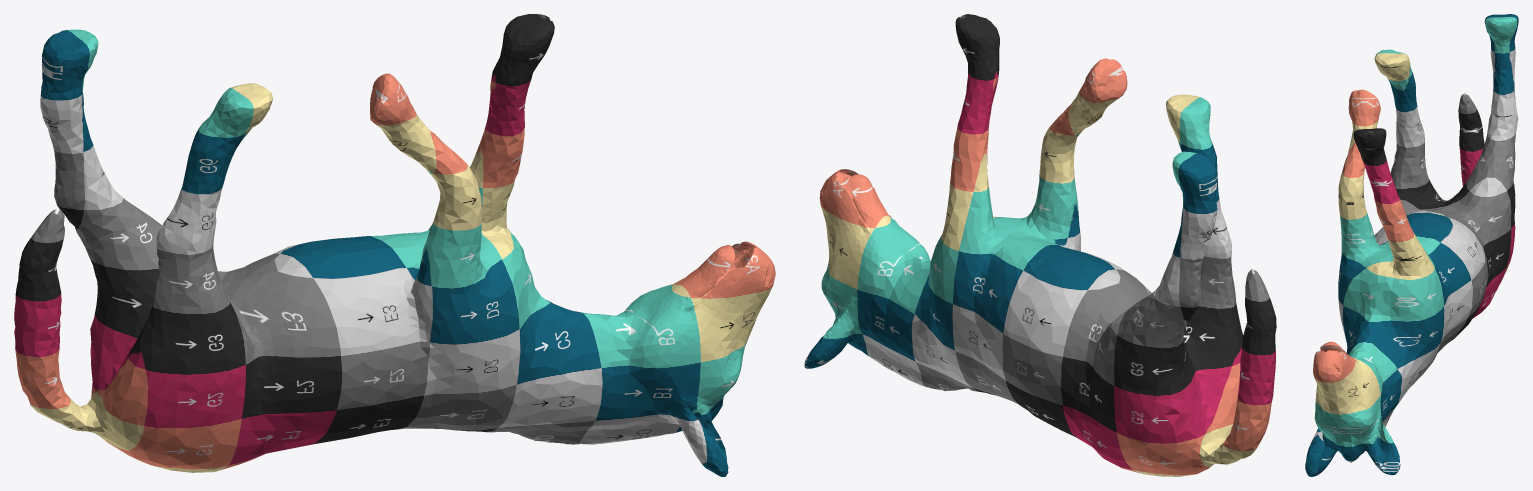
The model's file is horse_03.obj.
3 views of the same model, side by side, from view 1: azimuth 30°, elevation 25°; view 2: azimuth 150°, elevation 25°; view 3: azimuth 270°, elevation 25° (orthographic). The views are drawn at different scales.
Visible parts, largest first — view 1: horse_03_export; view 2: horse_03_export; view 3: horse_03_export.
Boxes of the visible parts, x1,y1,x2,y2 form: horse_03_export: (14,14,775,476); horse_03_export: (804,14,1276,476); horse_03_export: (1305,14,1518,476).
Size of the model in its own units: 0.9635 by 0.6562 by 0.422.
